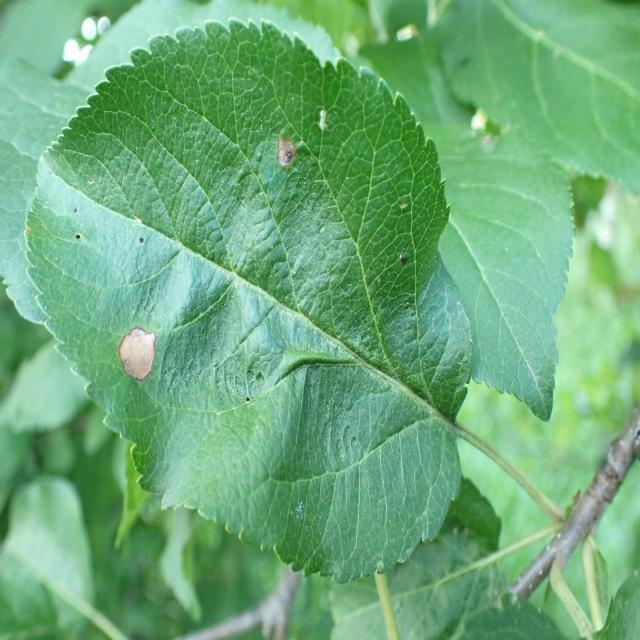Black Rot: (100, 325, 166, 389), (270, 109, 306, 172), (312, 103, 336, 136)
